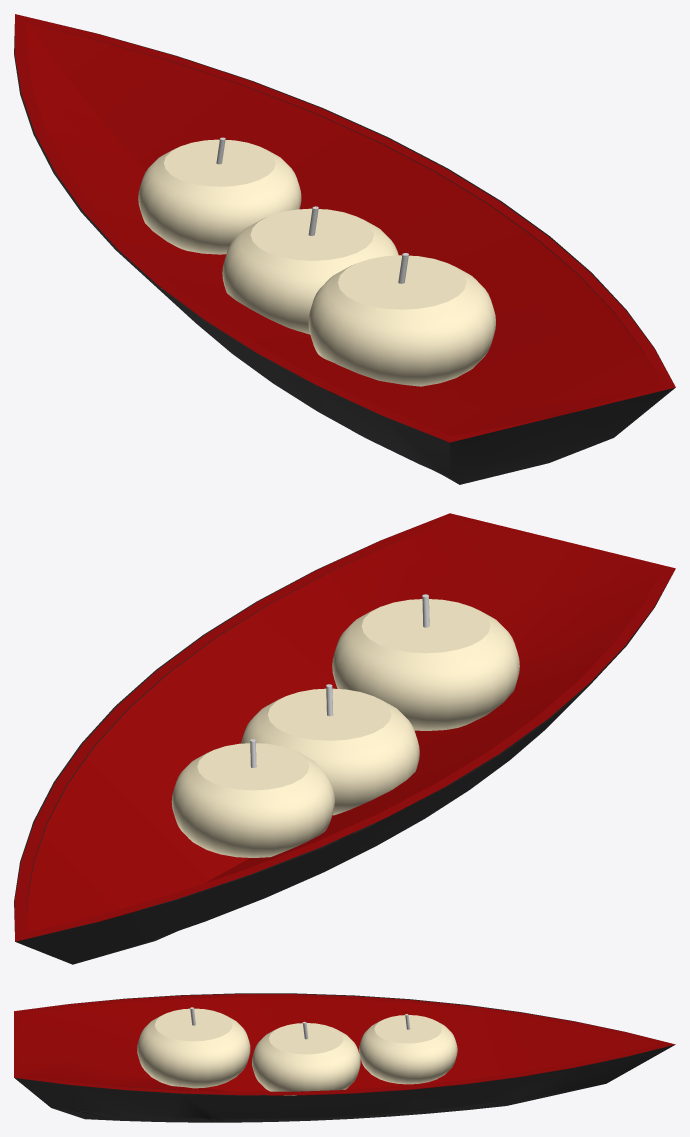
The model's file is red+boat+decor.obj.
3 views of the same model, one above another, from view 1: azimuth 30°, elevation 25°; view 2: azimuth 150°, elevation 25°; view 3: azimuth 270°, elevation 25° (orthographic). The views are drawn at different scales.
Parts seen in each view (by area): view 1: Mesh1 Group1 Model, Mesh7 Group3 Group2 Model, Mesh11 Group9 Group8 Model, Mesh9 Group6 Group5 Model; view 2: Mesh1 Group1 Model, Mesh7 Group3 Group2 Model, Mesh11 Group9 Group8 Model, Mesh9 Group6 Group5 Model; view 3: Mesh1 Group1 Model, Mesh7 Group3 Group2 Model, Mesh9 Group6 Group5 Model, Mesh11 Group9 Group8 Model.
Boxes of the visible parts, x1,y1,x2,y2 form: Mesh1 Group1 Model: [14, 14, 675, 484]; Mesh7 Group3 Group2 Model: [308, 255, 495, 386]; Mesh11 Group9 Group8 Model: [138, 139, 301, 254]; Mesh9 Group6 Group5 Model: [222, 208, 398, 334]; Mesh1 Group1 Model: [14, 513, 675, 964]; Mesh7 Group3 Group2 Model: [332, 599, 519, 730]; Mesh11 Group9 Group8 Model: [171, 743, 334, 857]; Mesh9 Group6 Group5 Model: [241, 688, 419, 815]; Mesh1 Group1 Model: [14, 993, 675, 1122]; Mesh7 Group3 Group2 Model: [137, 1008, 250, 1088]; Mesh9 Group6 Group5 Model: [252, 1023, 360, 1095]; Mesh11 Group9 Group8 Model: [359, 1015, 457, 1084].
Size of the model in its own units: 6.09 by 2.63 by 16.66.
